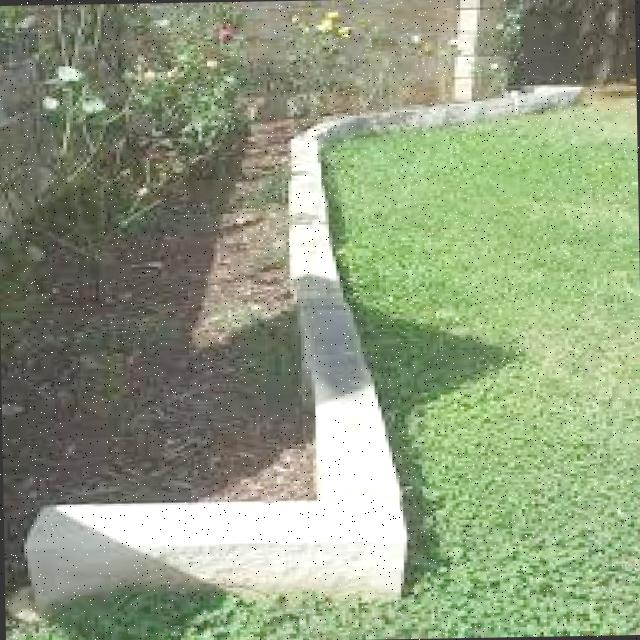curb: (18, 498, 407, 603), (328, 79, 580, 143), (308, 371, 392, 495), (295, 138, 335, 282), (306, 303, 362, 365)
